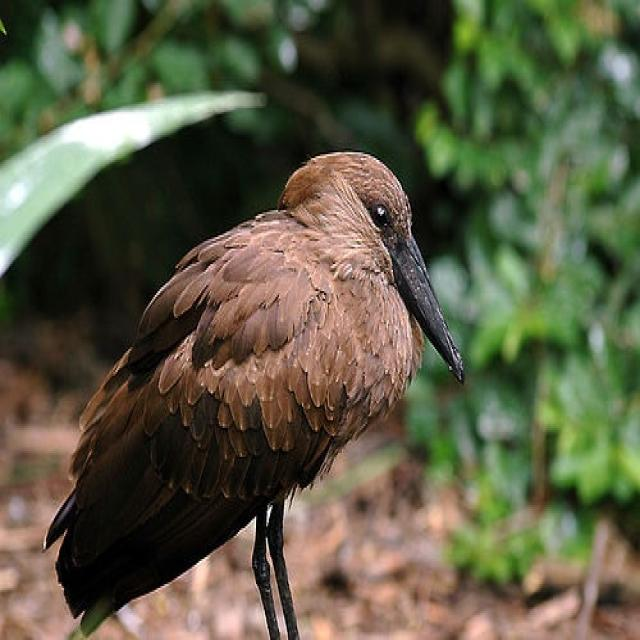bird: (47, 145, 471, 638)
